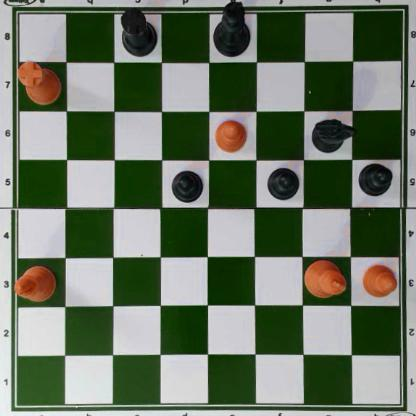black-king: (211, 1, 251, 59)
black-knight: (310, 118, 357, 154)
black-pawn: (358, 162, 392, 196), (170, 170, 204, 203), (267, 165, 299, 200)
black-rook: (120, 7, 158, 58)
white-bishop: (13, 264, 57, 306)
white-king: (303, 258, 347, 299)
white-pawn: (360, 262, 397, 298), (213, 117, 247, 153)
white-rook: (16, 62, 62, 106)
